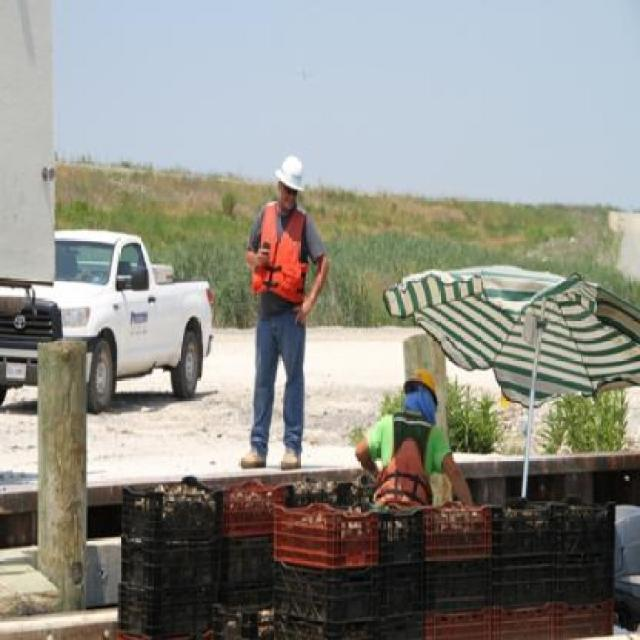bicycle: (14, 234, 212, 412)
